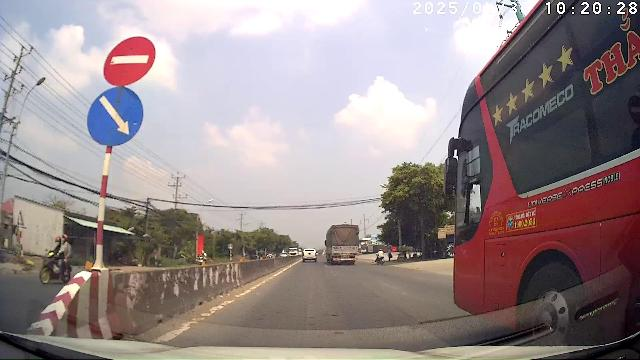102-cam-di-nguoc-chieu: (102, 35, 156, 85)
302a-huong-phai-di-vong-chuong-ngai-vat-1: (86, 86, 144, 146)
